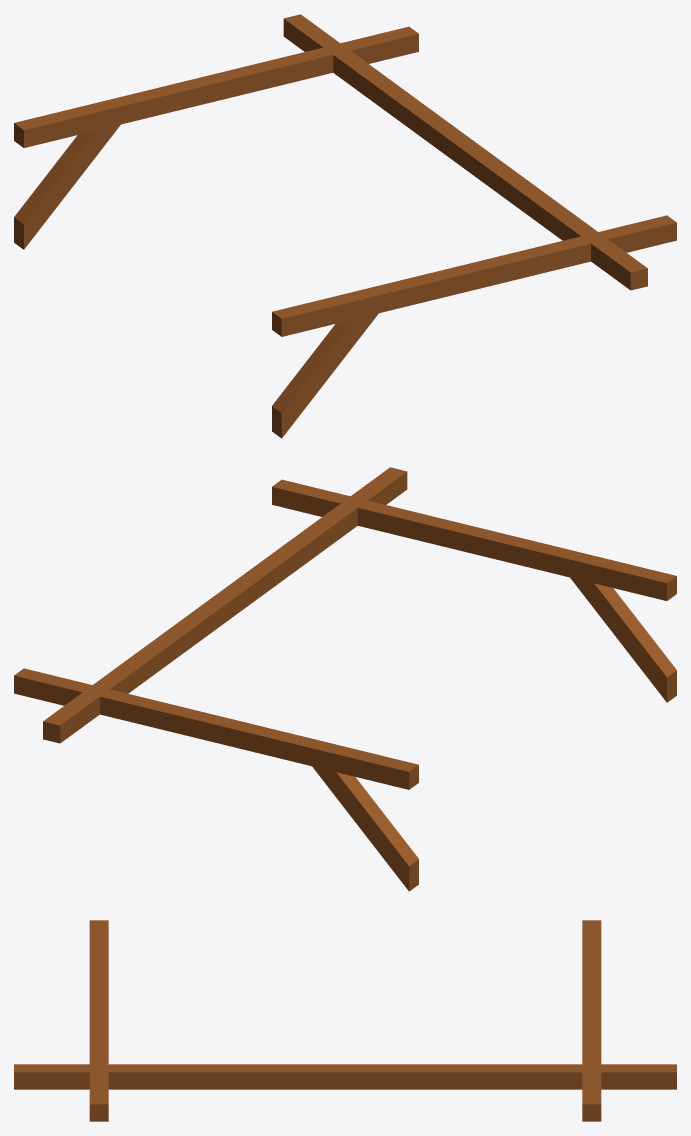
The model's file is Buildings_Wooden_Framework_03.fbx.
3 views of the same model, one above another, from view 1: azimuth 30°, elevation 25°; view 2: azimuth 150°, elevation 25°; view 3: azimuth 270°, elevation 25° (orthographic). The views are drawn at different scales.
Visible parts, largest first — view 1: Model; view 2: Model; view 3: Model.
Part boxes in pixels (<box>): Model: <box>14,14,676,438</box>; Model: <box>14,467,676,891</box>; Model: <box>14,920,676,1121</box>.
Size of the model in its own units: 997 by 289 by 1517.
